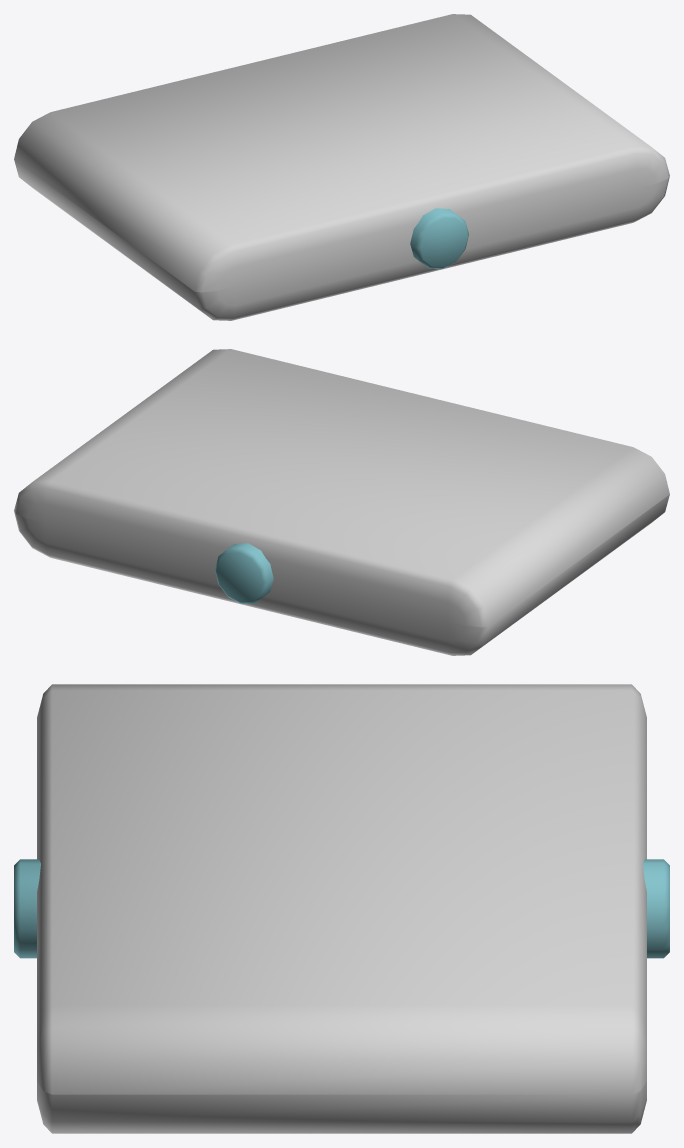
The model's file is Track.FBX.
The picture shows the model from 3 angles, top to bottom: view 1: azimuth 30°, elevation 25°; view 2: azimuth 150°, elevation 25°; view 3: azimuth 270°, elevation 25°; orthographic projection. The views are drawn at different scales.
Parts seen in each view (by area): view 1: ChamferBox001, ChamferCyl001; view 2: ChamferBox001, ChamferCyl001; view 3: ChamferBox001, ChamferCyl001.
Part boxes in pixels (left/top/right/bottom): ChamferBox001: left=14, top=14, right=669, bottom=320; ChamferCyl001: left=410, top=208, right=468, bottom=268; ChamferBox001: left=14, top=349, right=669, bottom=655; ChamferCyl001: left=215, top=543, right=273, bottom=603; ChamferBox001: left=37, top=684, right=646, bottom=1133; ChamferCyl001: left=14, top=859, right=669, bottom=958.
Size of the model in its own units: 174 by 26.75 by 130.
